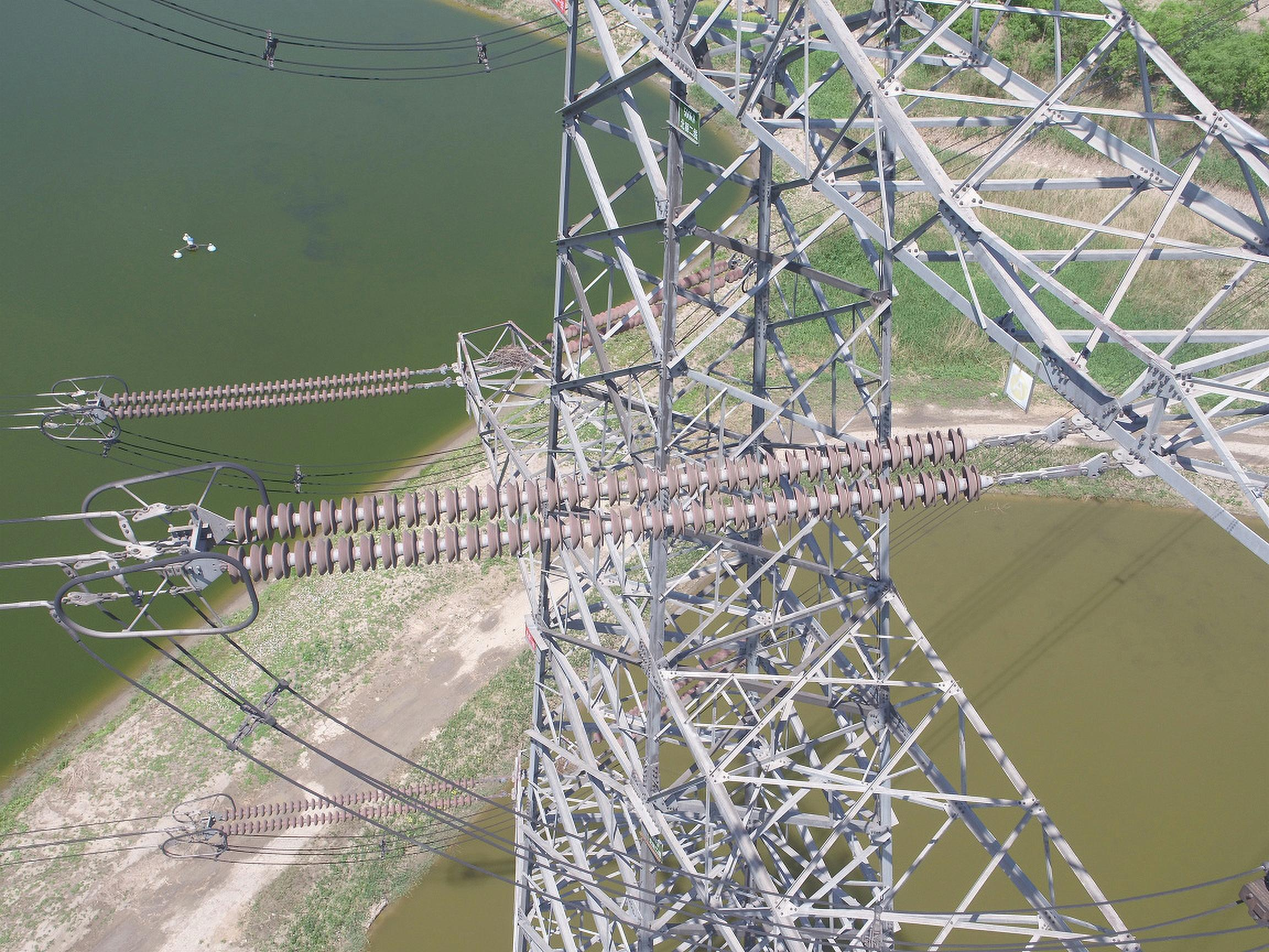insulator: (220, 423, 985, 591), (543, 258, 747, 356), (590, 636, 750, 754), (215, 774, 478, 840), (107, 365, 413, 421)
